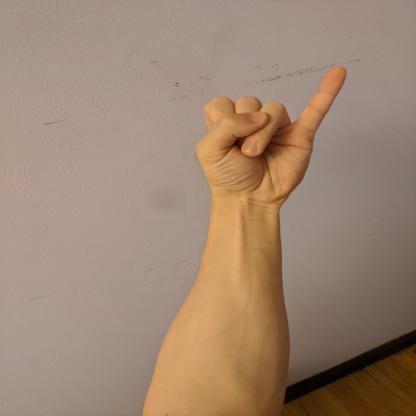I: (190, 63, 352, 209)
